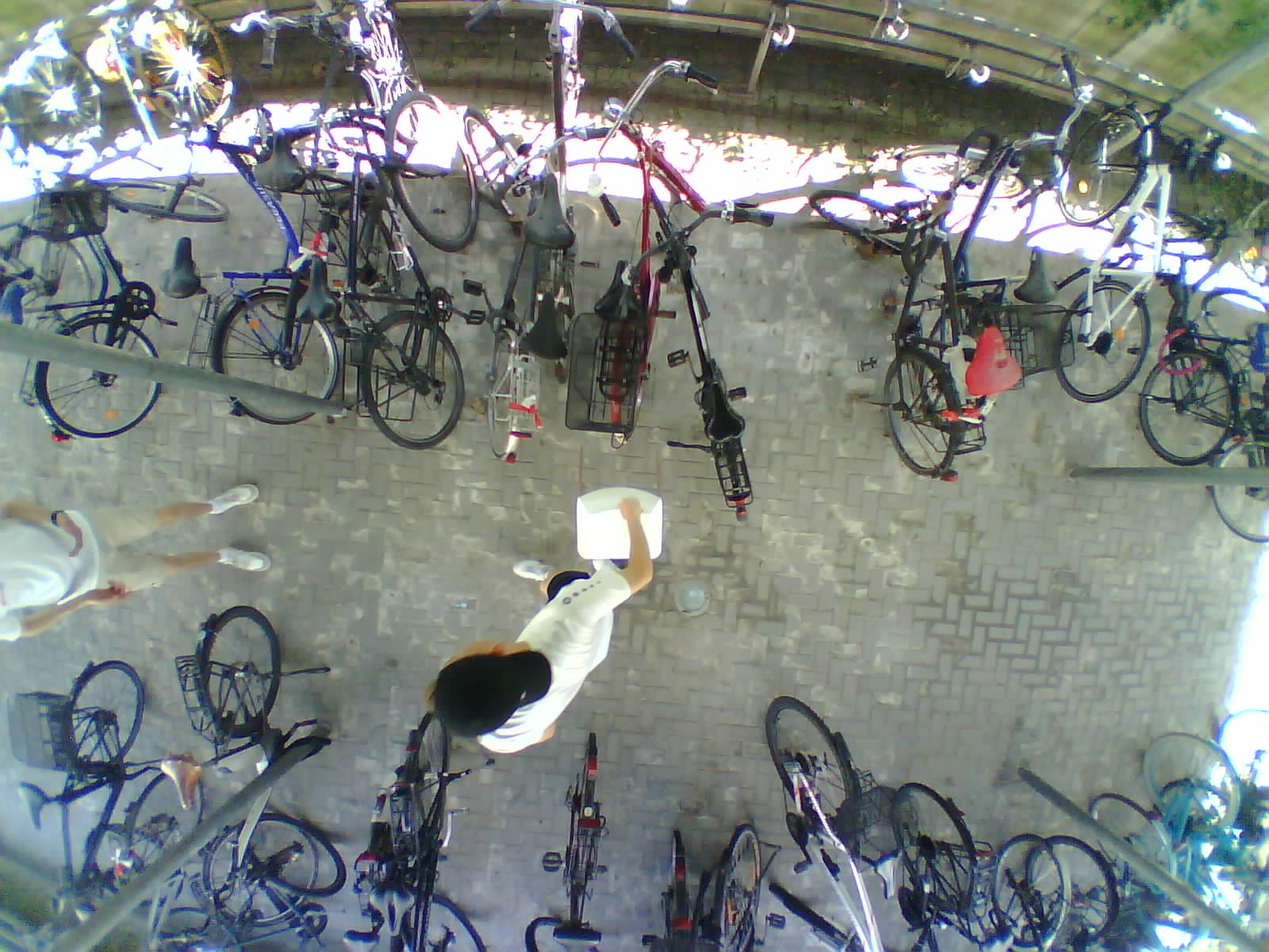bicylce: (2, 157, 222, 448), (304, 99, 487, 448), (182, 112, 384, 428), (812, 151, 976, 477), (169, 610, 342, 900), (575, 97, 707, 457), (640, 199, 767, 519), (461, 111, 564, 465), (1036, 114, 1163, 398), (763, 692, 900, 952), (952, 132, 1053, 455), (305, 17, 416, 307), (54, 661, 149, 926), (530, 6, 580, 376)
saddle: (959, 318, 1022, 400), (520, 165, 577, 248), (516, 289, 577, 363), (290, 253, 343, 327), (593, 255, 647, 321), (367, 875, 422, 938), (155, 234, 208, 297), (1007, 236, 1056, 304), (159, 751, 210, 815), (865, 848, 910, 907), (702, 379, 745, 440), (15, 778, 54, 833), (548, 927, 606, 952), (1168, 245, 1191, 306), (0, 281, 28, 330), (1246, 317, 1269, 371), (339, 929, 382, 952)
